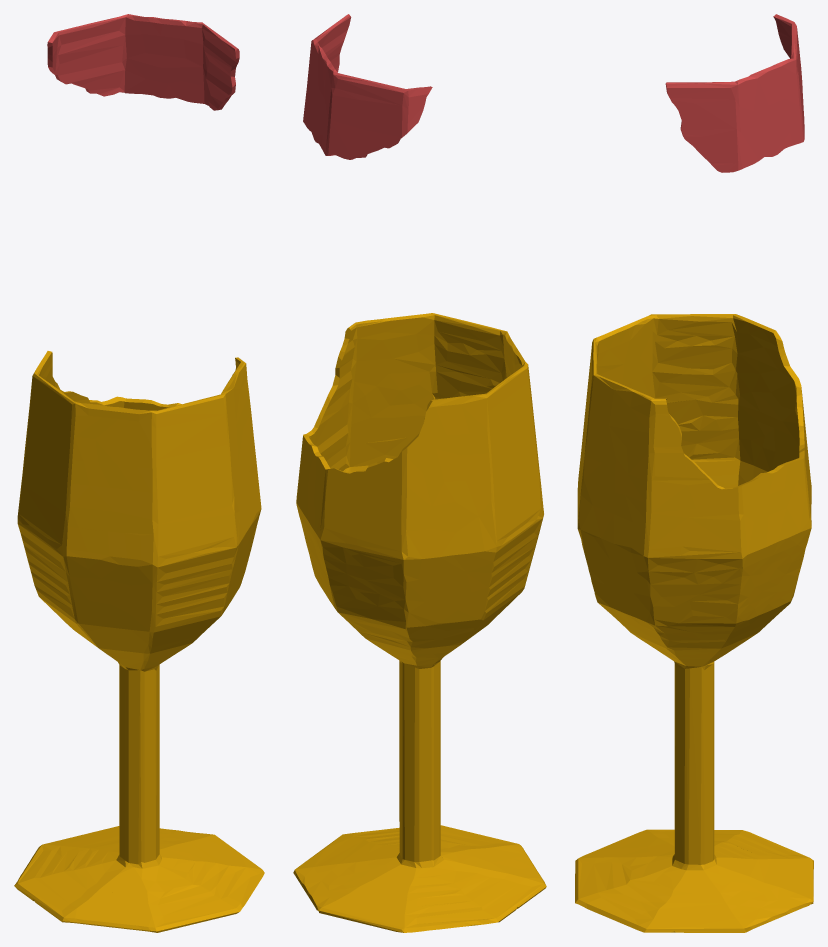
Rendered from fractured_75_2pcs_transformed.glb.
The picture shows the model from 3 angles, left to right: view 1: azimuth 30°, elevation 25°; view 2: azimuth 150°, elevation 25°; view 3: azimuth 270°, elevation 25°; orthographic projection. The views are drawn at different scales.
Parts seen in each view (by area): view 1: piece_0.obj, piece_1.obj; view 2: piece_0.obj, piece_1.obj; view 3: piece_0.obj, piece_1.obj.
Boxes of the visible parts, left/top/right/bottom form: piece_0.obj: left=14, top=351, right=264, bottom=932; piece_1.obj: left=47, top=14, right=239, bottom=110; piece_0.obj: left=293, top=313, right=546, bottom=932; piece_1.obj: left=303, top=14, right=432, bottom=159; piece_0.obj: left=575, top=314, right=813, bottom=932; piece_1.obj: left=665, top=14, right=804, bottom=172.
Size of the model in its own units: 0.4104 by 1.6 by 0.4102.
